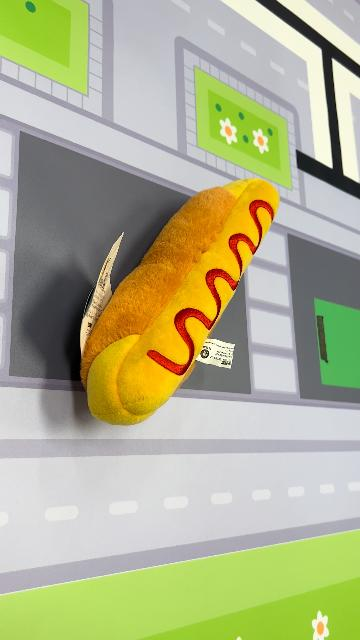hotdog: (81, 176, 281, 428)
